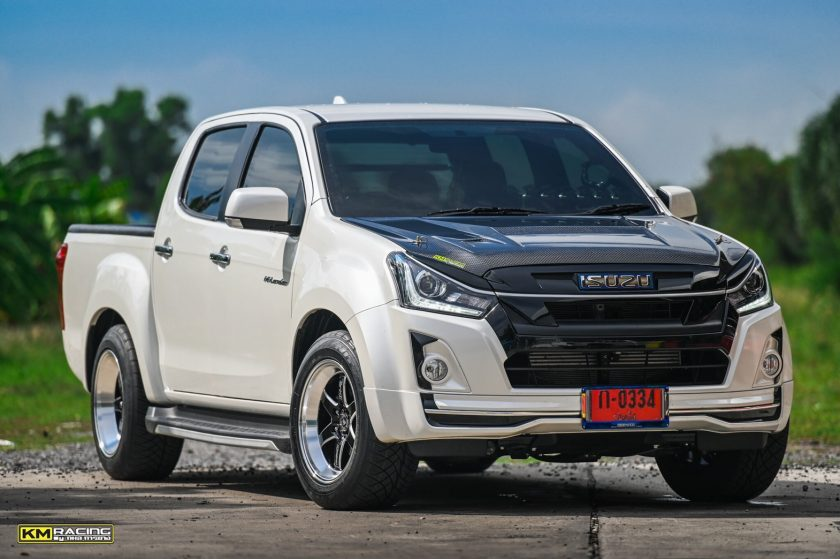pickup: (52, 94, 796, 510)
